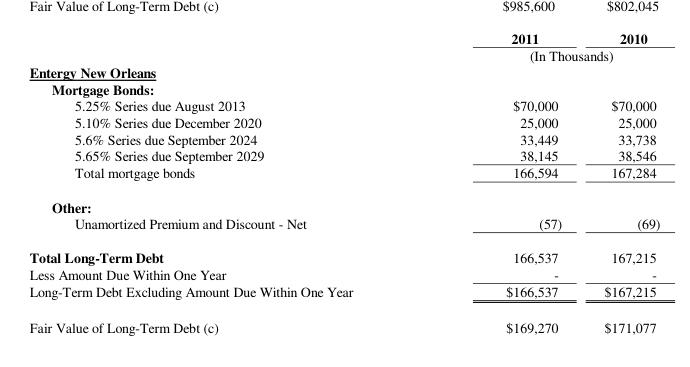table: (28, 28, 659, 335)
table column: (28, 28, 428, 335), (428, 28, 582, 335), (582, 28, 659, 335)
table column header: (28, 28, 659, 63)
table projected row header: (28, 189, 659, 214), (28, 63, 659, 80), (28, 80, 659, 97)
table row: (28, 281, 659, 308), (28, 308, 659, 335), (28, 163, 659, 189), (28, 239, 659, 265), (28, 189, 659, 214), (28, 214, 659, 239), (28, 28, 659, 46), (28, 46, 659, 63), (28, 63, 659, 80), (28, 80, 659, 97), (28, 129, 659, 146), (28, 146, 659, 163), (28, 97, 659, 113), (28, 113, 659, 129), (28, 265, 659, 281)
table spanning cell: (428, 46, 659, 63)
